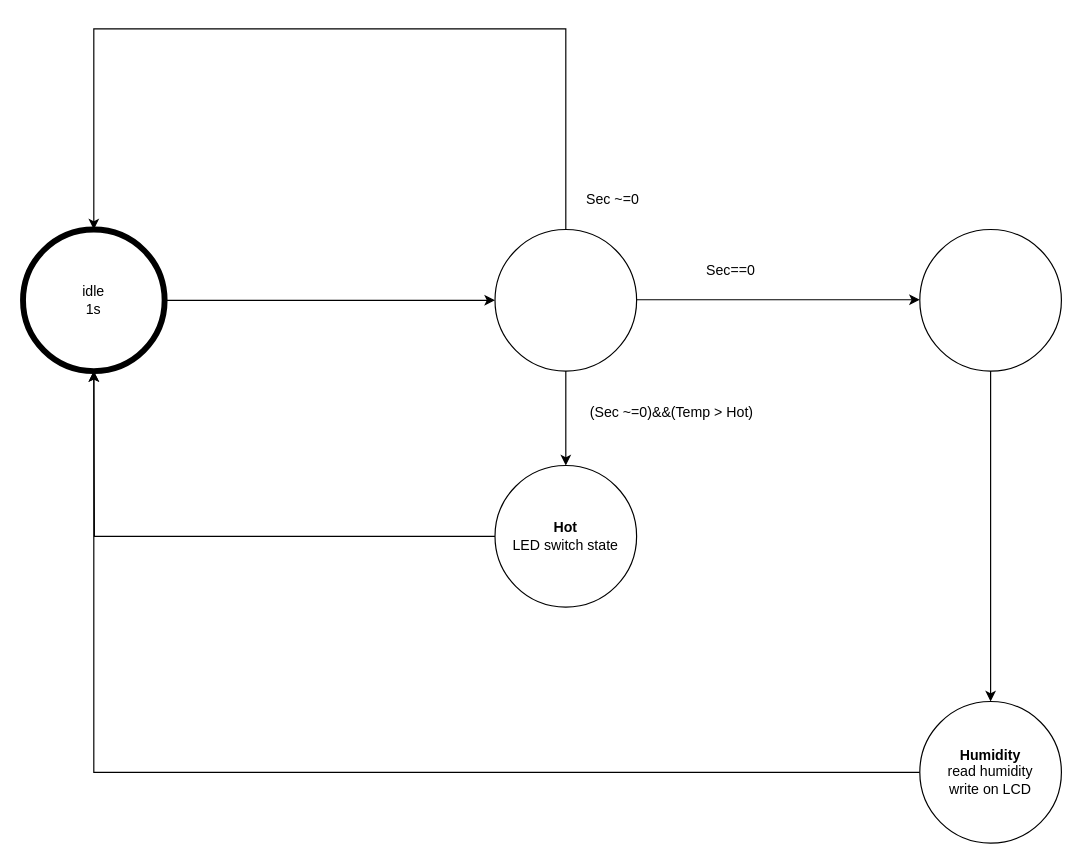
Image size: 1082x864. Some labels were removed from this diagram. Each missing label, with the centre of its shape:
"Temp read temp write on LCD" belongs at [990,299].
"Time Get time dispey on LCD" belongs at [565,299].
